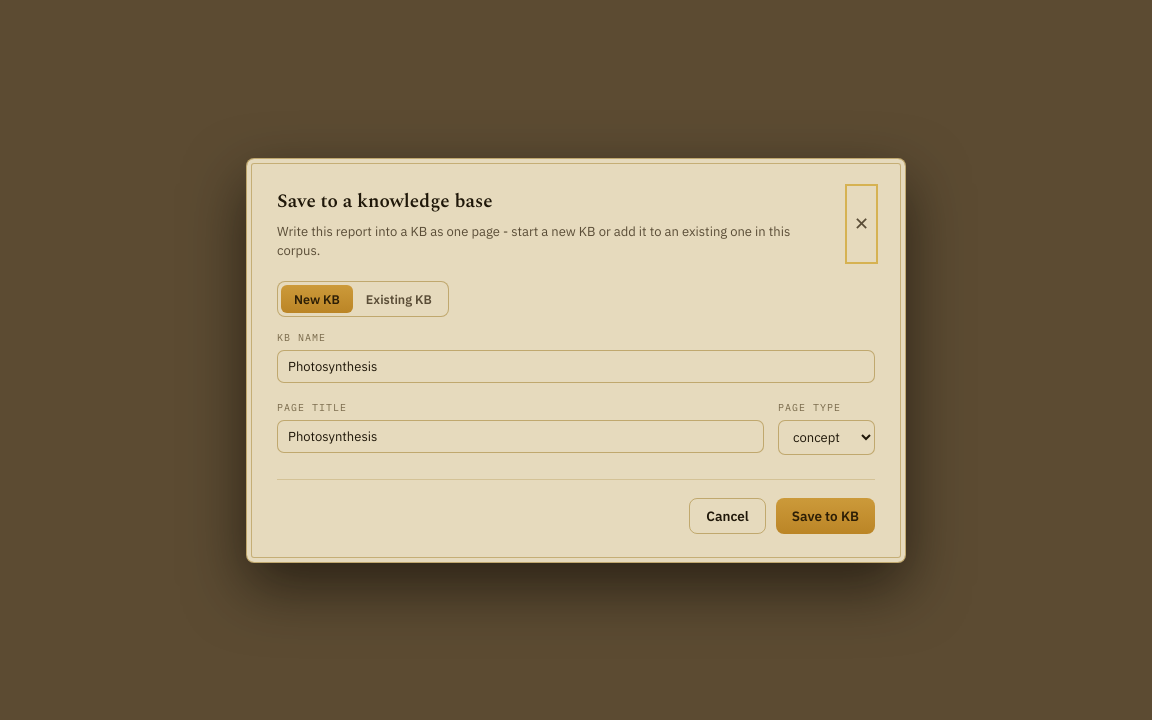
SaveToKbModal › defaults to a new KB named after the run and saves by name
The width and height of the screenshot is (1152, 720).
Expected: the field named "KB name" holds "Photosynthesis", 277,350 -> 875,382
Click the button "Save to KB".
click(825, 516)  # box 776,498 -> 875,534
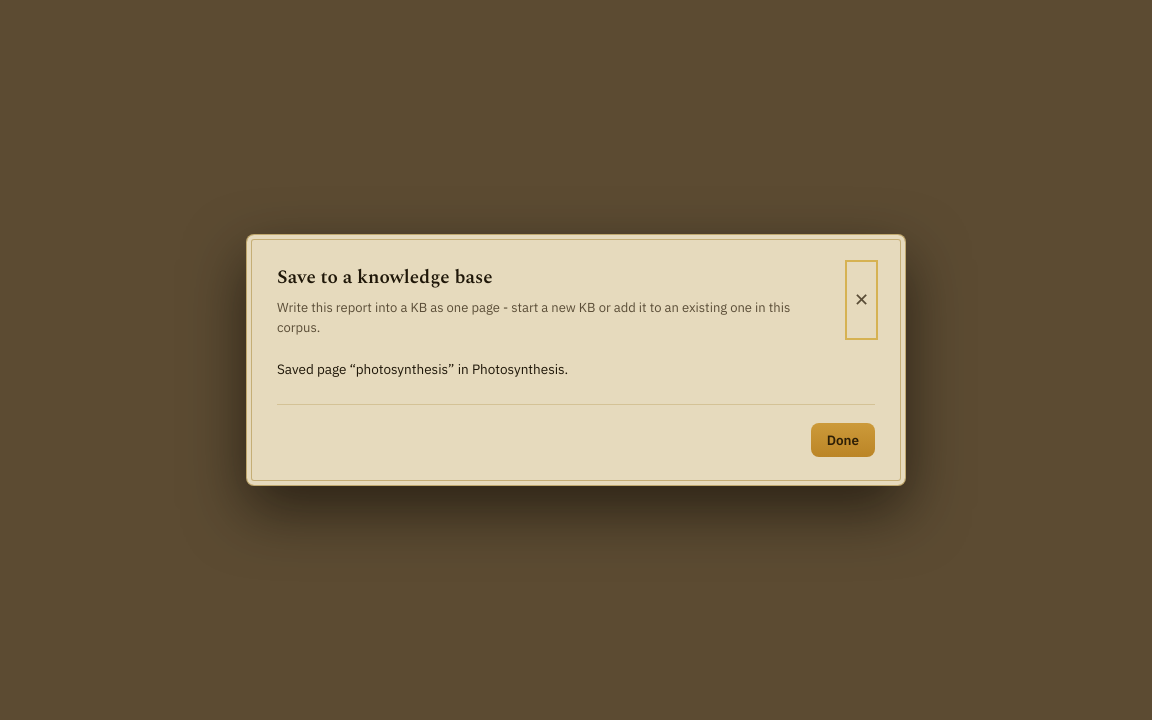
Result: the message shows "Saved page" at 277,360 -> 568,378
